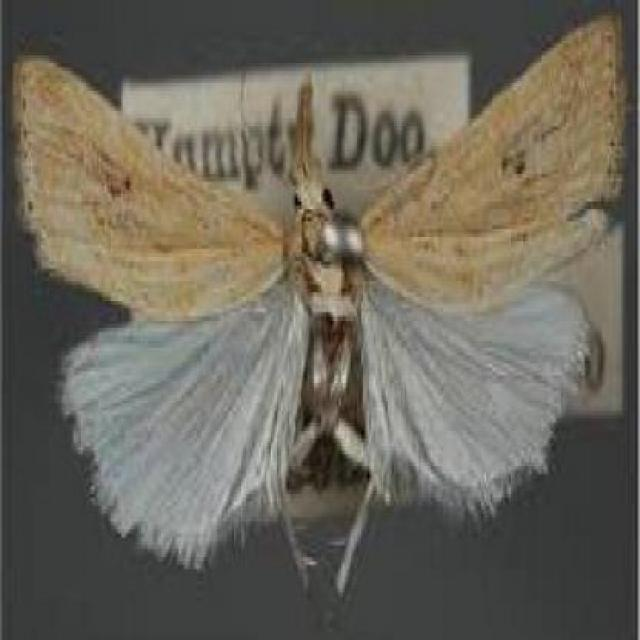stem-borer: (9, 8, 626, 602)
